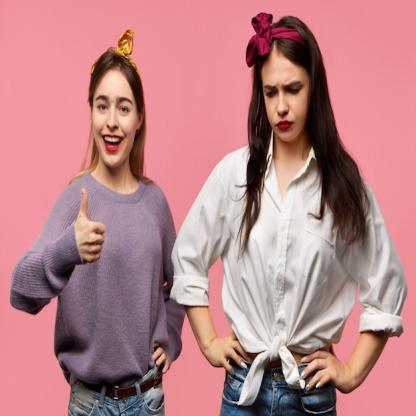thumb_up: (73, 184, 108, 268)
